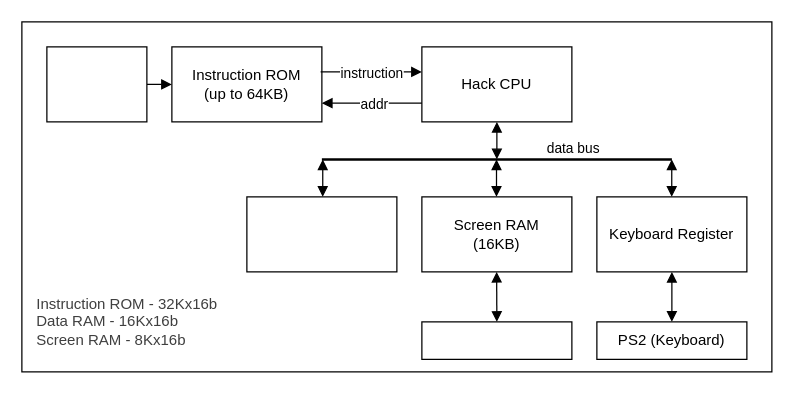
The diagram is 794 pixels wide and 394 high, and some of its shapes have lost their labels. The box of each missing label's shape, as (x1, y1, x2, y2) in pixels:
Data RAM (32KB): (246, 196, 397, 272)
Uart Controller: (46, 46, 147, 122)
VGA (Screen): (421, 321, 572, 359)
